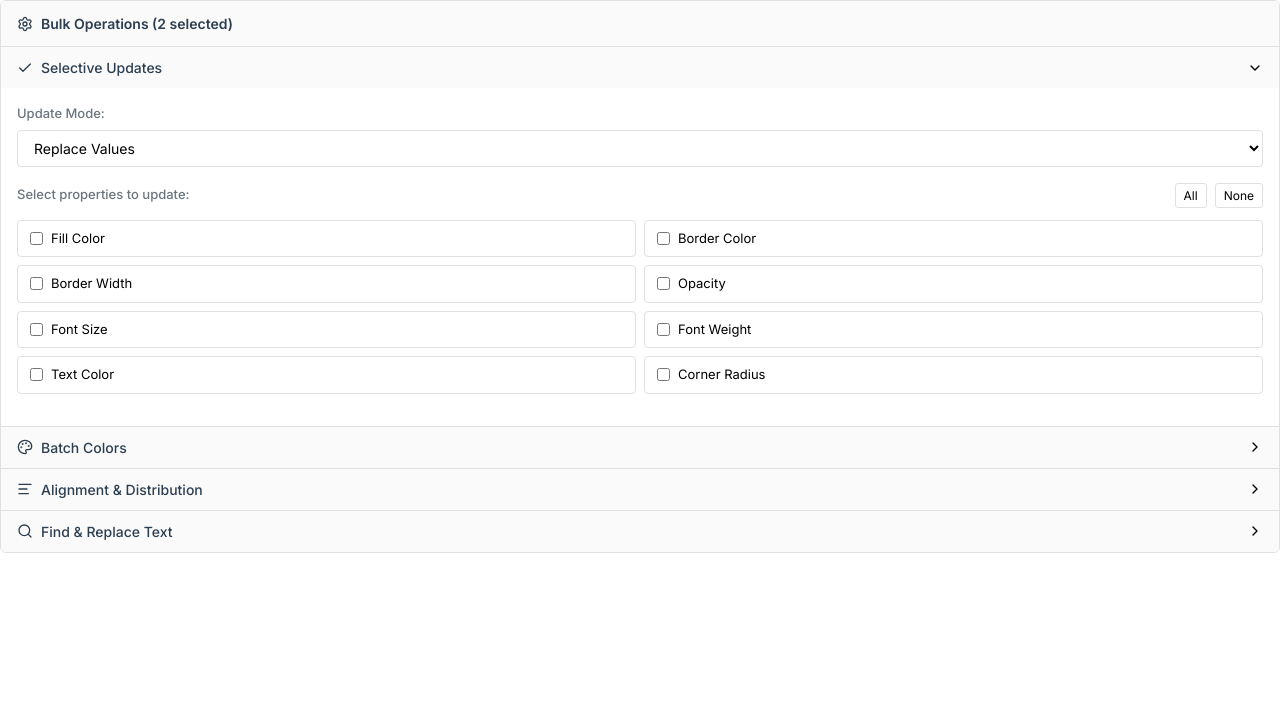
Test case: BulkStyleControls › Accessibility › should have proper button titles for alignment tools
Step 1. Click the button "Alignment & Distribution" → click(122, 489), box [1,468,1279,510]
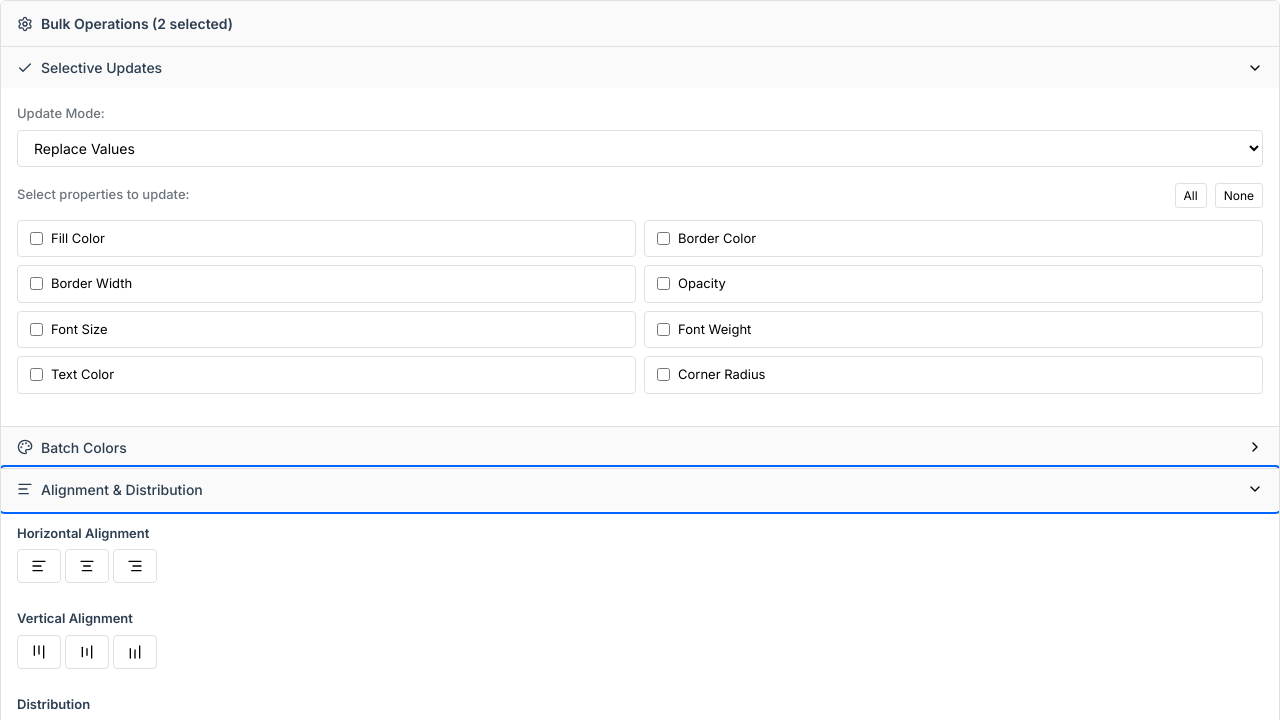
Expected: the button titled "Align Left" is shown, [17,549,61,583]
Expected: the button titled "Align Center" is shown, [65,549,109,583]
Expected: the button titled "Align Right" is shown, [113,549,157,583]
